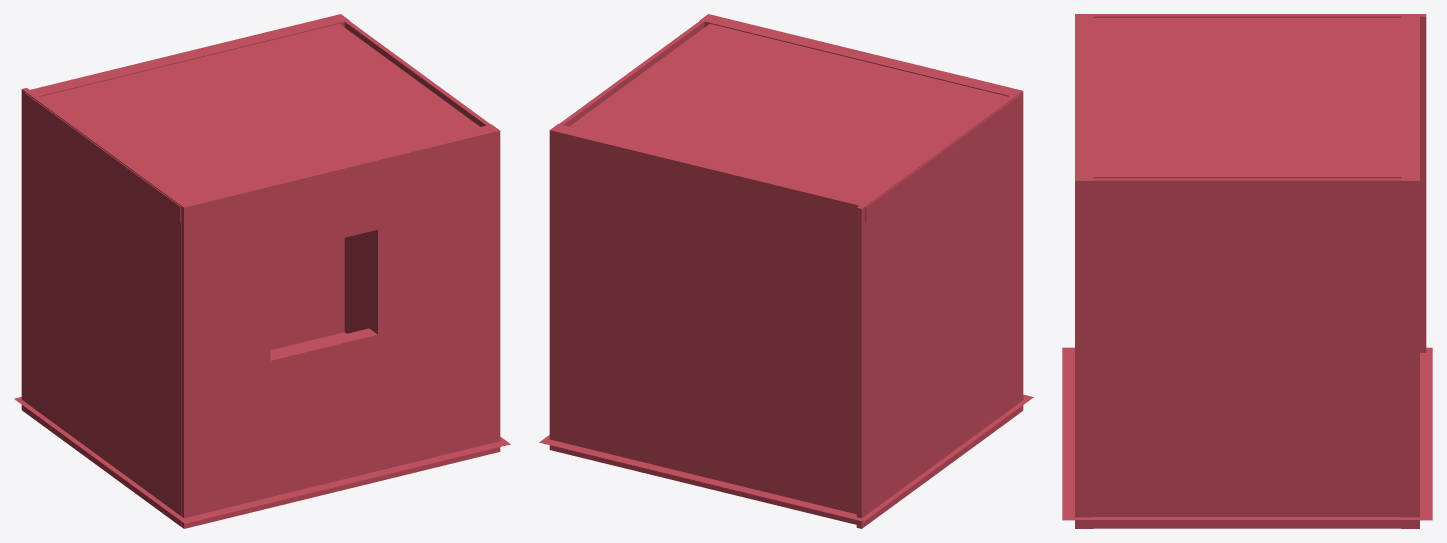
Rendered from Recent.glb.
3 views of the same model, side by side, from view 1: azimuth 30°, elevation 25°; view 2: azimuth 150°, elevation 25°; view 3: azimuth 270°, elevation 25° (orthographic). The views are drawn at different scales.
Visible parts, largest first — view 1: Mesh_Mesh_head_geo.001_lambert2SG.001; view 2: Mesh_Mesh_head_geo.001_lambert2SG.001; view 3: Mesh_Mesh_head_geo.001_lambert2SG.001.
Boxes of the visible parts, x1,y1,x2,y2 form: Mesh_Mesh_head_geo.001_lambert2SG.001: [14, 14, 510, 528]; Mesh_Mesh_head_geo.001_lambert2SG.001: [539, 14, 1033, 528]; Mesh_Mesh_head_geo.001_lambert2SG.001: [1062, 14, 1432, 528].
Bounding box in the file's own units: 0.2064 × 0.1943 × 0.1873.
